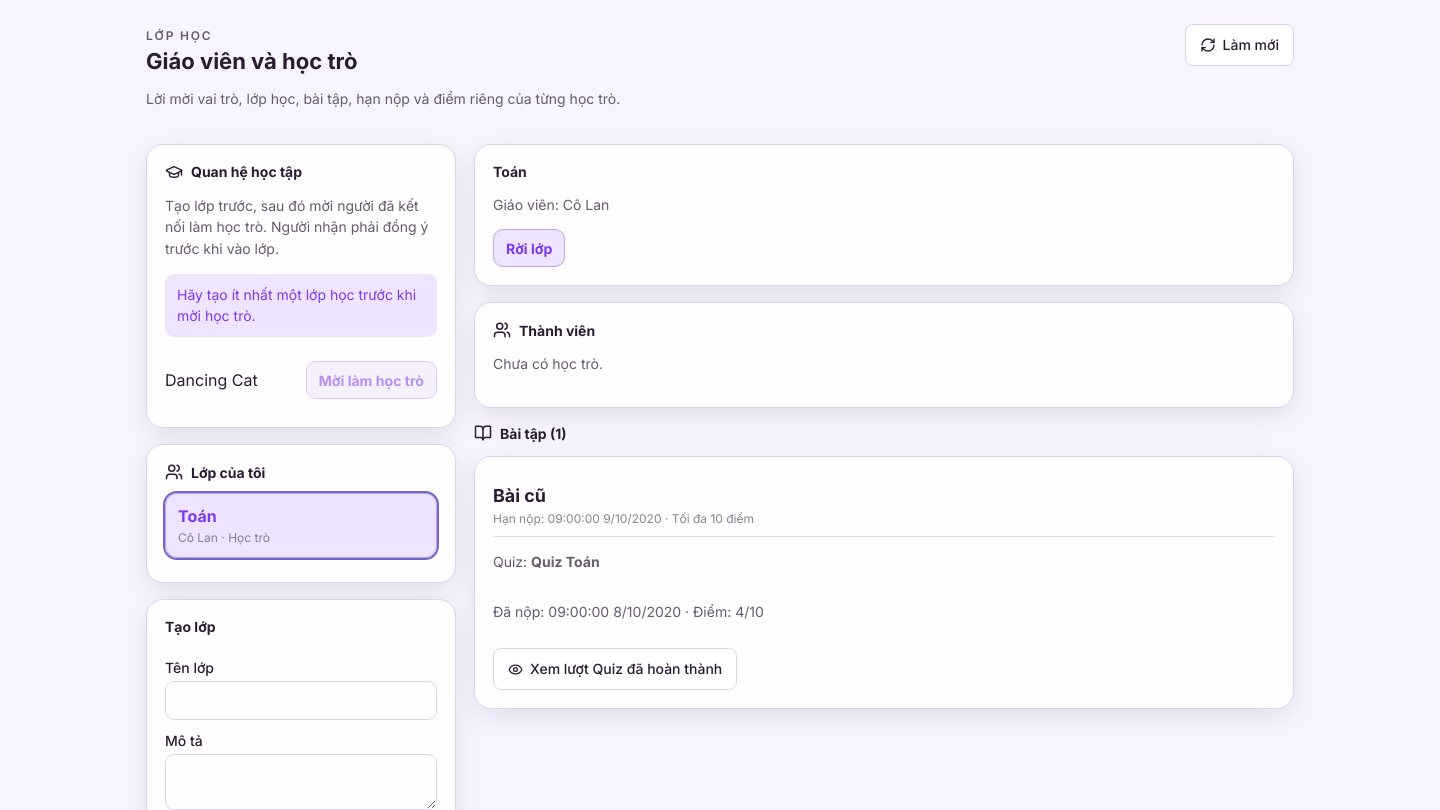
Test: lets a student review an expired Quiz without choosing it for submission
Expected: the text "Làm Quiz" is not shown
Click the button "Xem lượt Quiz đã hoàn thành".
click(615, 669)  # box [493, 648, 737, 690]
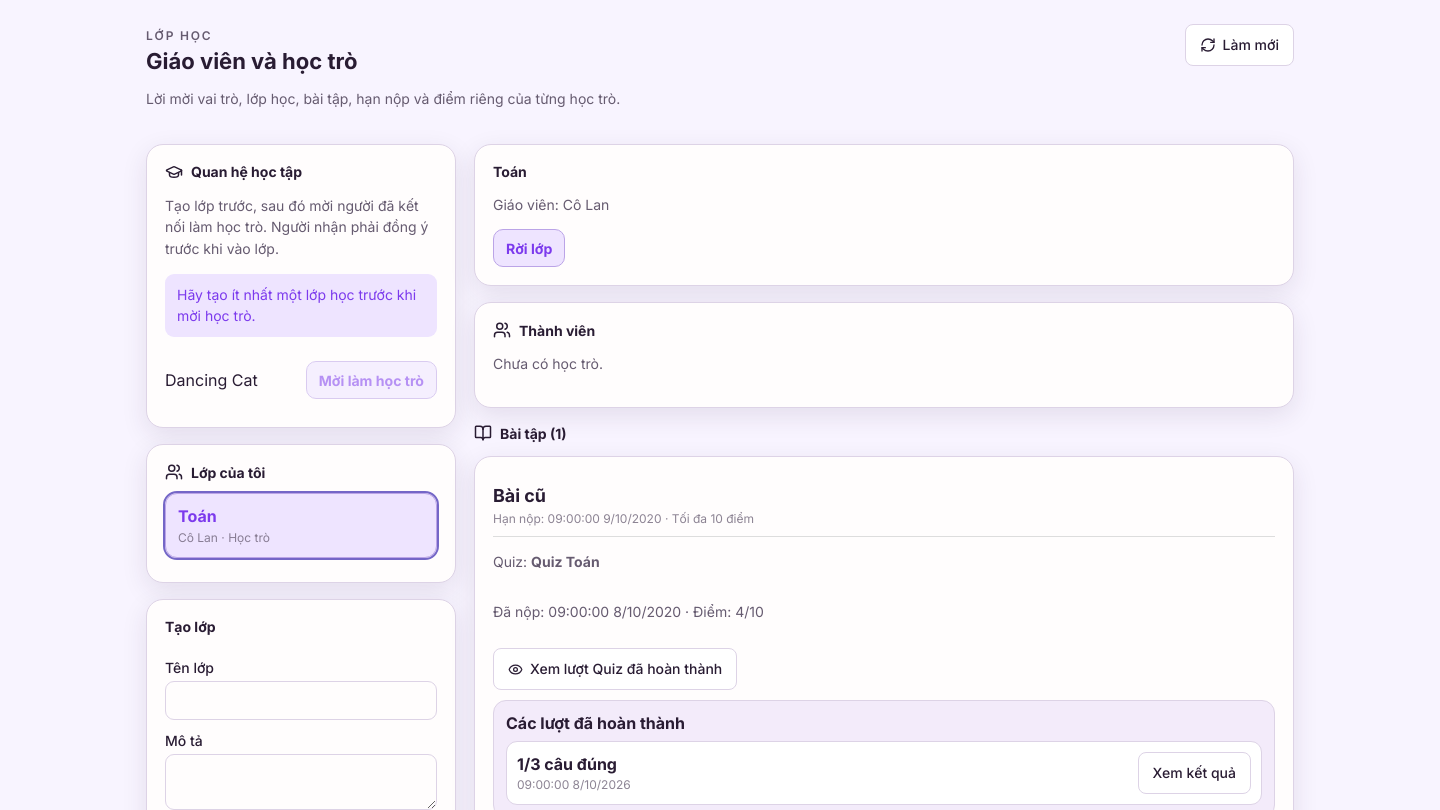
Click the button "Xem kết quả".
click(1194, 773)  # box [1138, 752, 1251, 794]
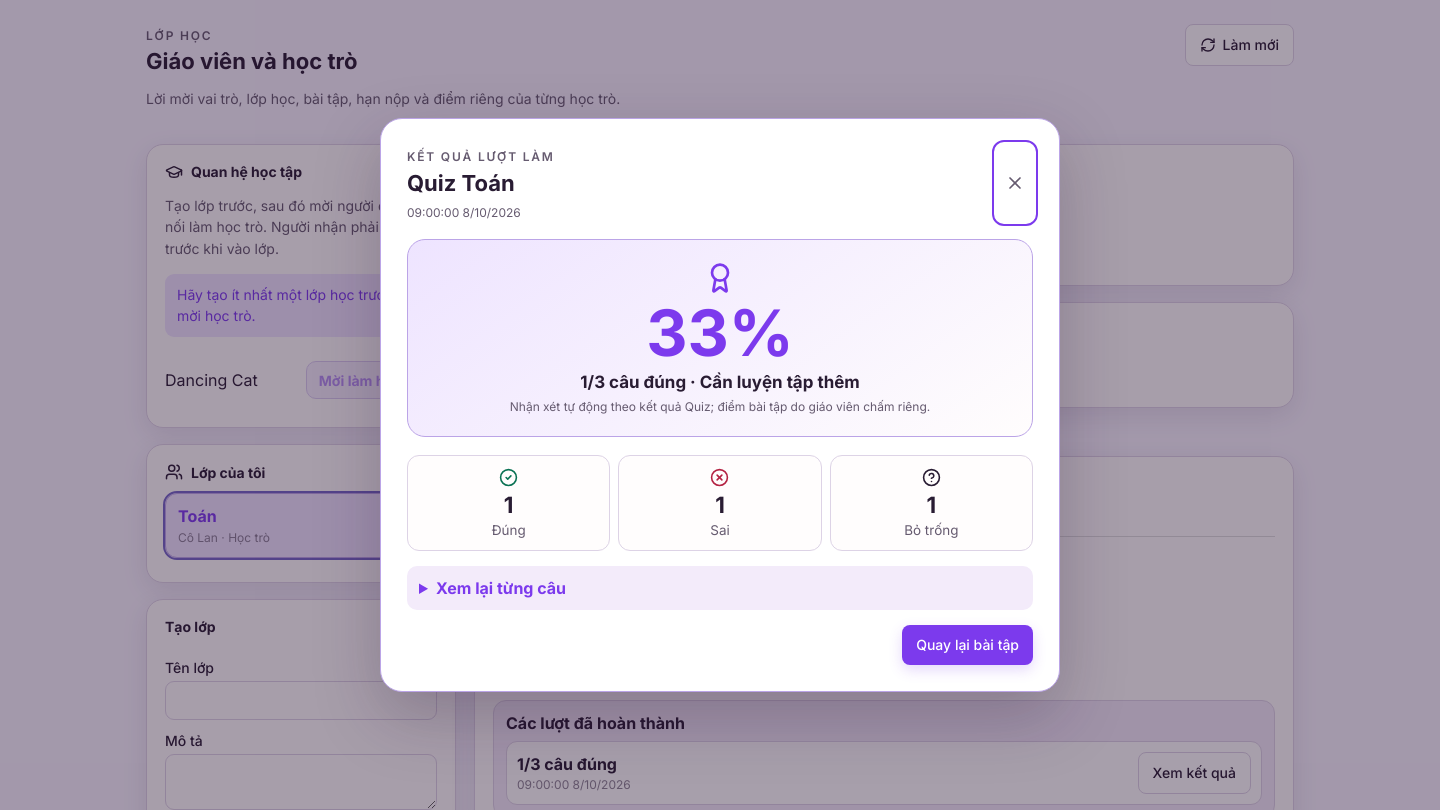
Expected: the dialog with class "class-review-dialog" shows "Cần luyện tập thêm", [700, 372, 860, 392]
Expected: the element with class "class-review-stats" reads "1 Đúng 1 Sai 1 Bỏ trống", [407, 455, 1033, 551]
